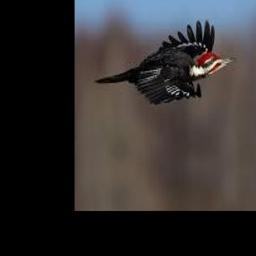Woodpecker: (95, 19, 237, 105)
